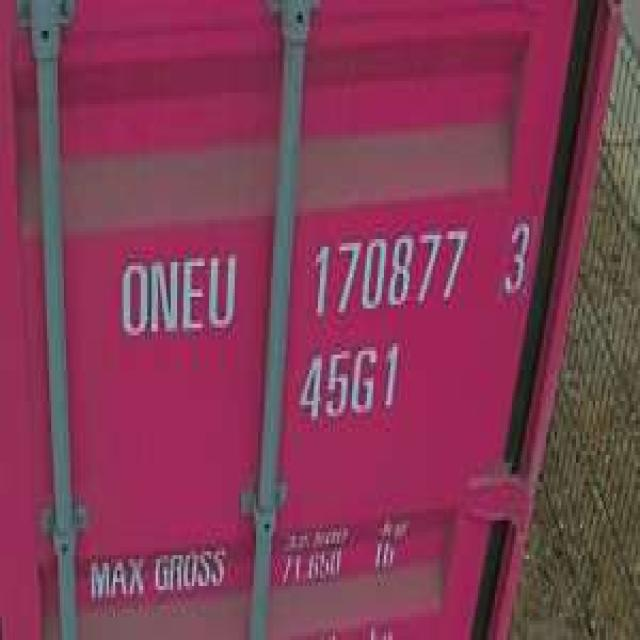dv: (502, 208, 534, 297)
owner: (111, 239, 241, 343)
serial: (303, 216, 471, 320)
size: (294, 336, 401, 424)
